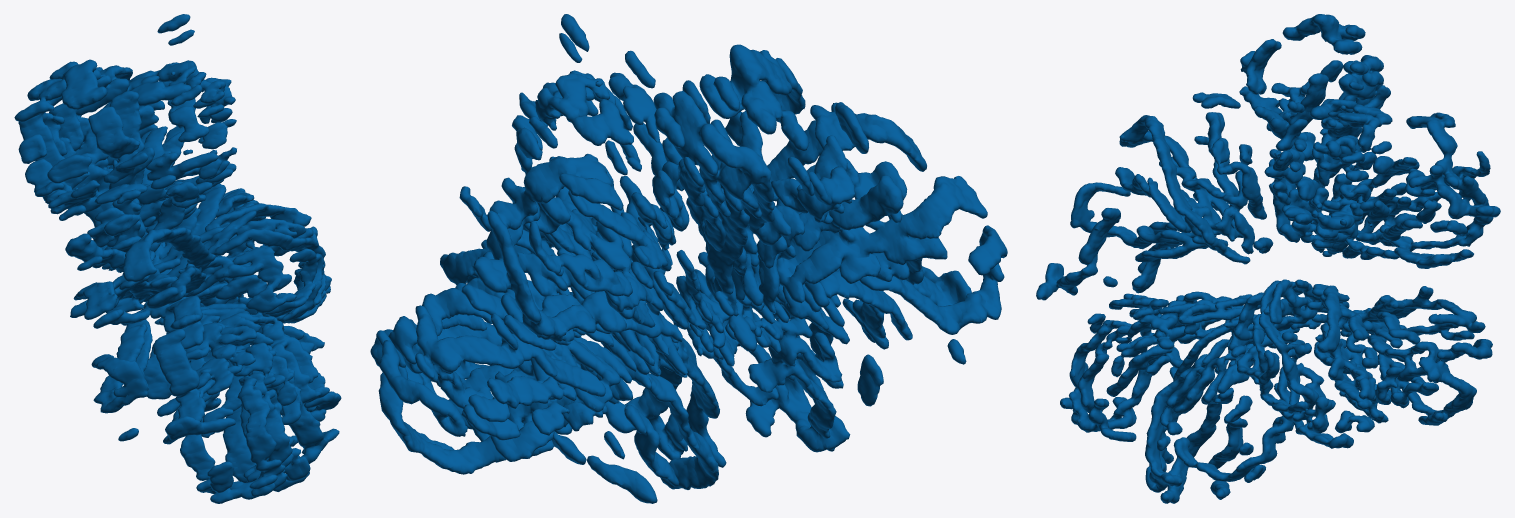
Rendered from 0HR_300cis_timelapse_z.glb.
3 renders of one model, left to right at view 1: azimuth 30°, elevation 25°; view 2: azimuth 150°, elevation 25°; view 3: azimuth 270°, elevation 25°, orthographic. The views are drawn at different scales.
Parts seen in each view (by area): view 1: 0HR_300cis_timelapse_z; view 2: 0HR_300cis_timelapse_z; view 3: 0HR_300cis_timelapse_z.
Part boxes in pixels (x1,y1,x2,y2): 0HR_300cis_timelapse_z: [14, 14, 341, 503]; 0HR_300cis_timelapse_z: [370, 14, 1007, 503]; 0HR_300cis_timelapse_z: [1036, 14, 1500, 503].
Bounding box in the file's own units: 20.88 × 24.35 × 23.54.
